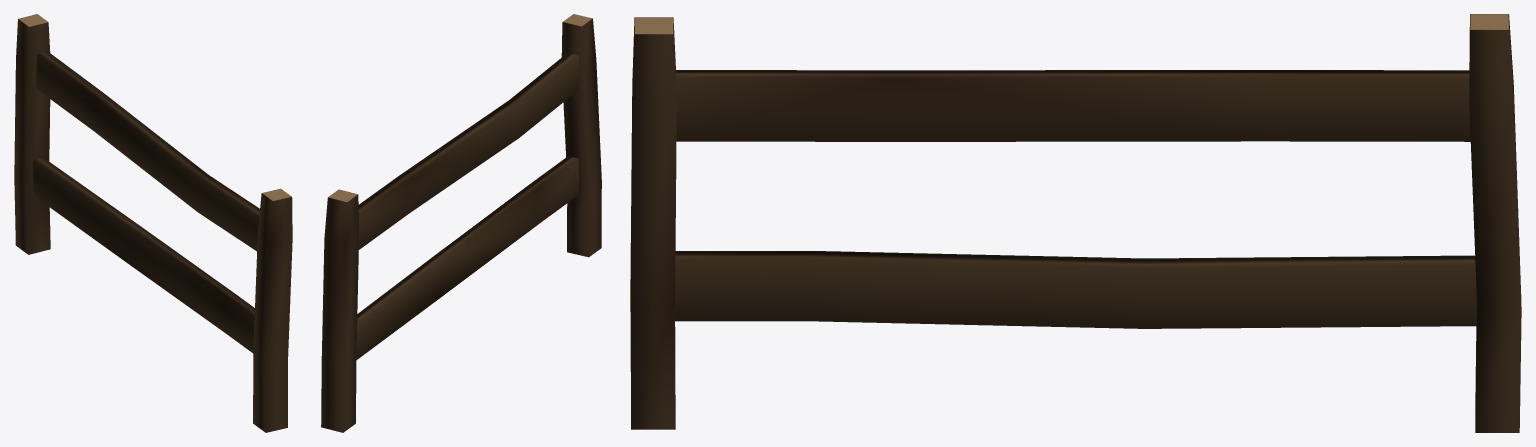
The model's file is SM_FencePost.fbx.
3 views of the same model, side by side, from view 1: azimuth 30°, elevation 25°; view 2: azimuth 150°, elevation 25°; view 3: azimuth 270°, elevation 25° (orthographic). The views are drawn at different scales.
Parts seen in each view (by area): view 1: SM_FencePost; view 2: SM_FencePost; view 3: SM_FencePost.
Boxes of the visible parts, x1=… form: SM_FencePost: x1=14, y1=14, x2=292, y2=432; SM_FencePost: x1=321, y1=14, x2=601, y2=432; SM_FencePost: x1=630, y1=14, x2=1521, y2=432.
Bounding box in the file's own units: 12.39 × 99.22 × 200.
